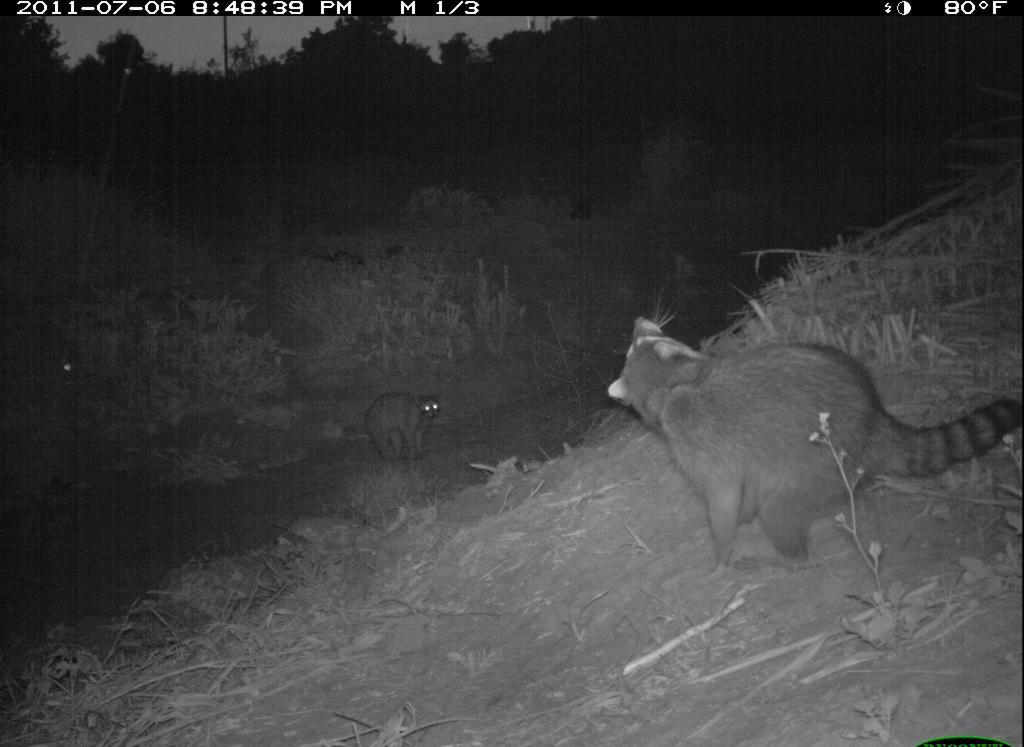raccoon: (600, 300, 1022, 579), (354, 378, 469, 477)
